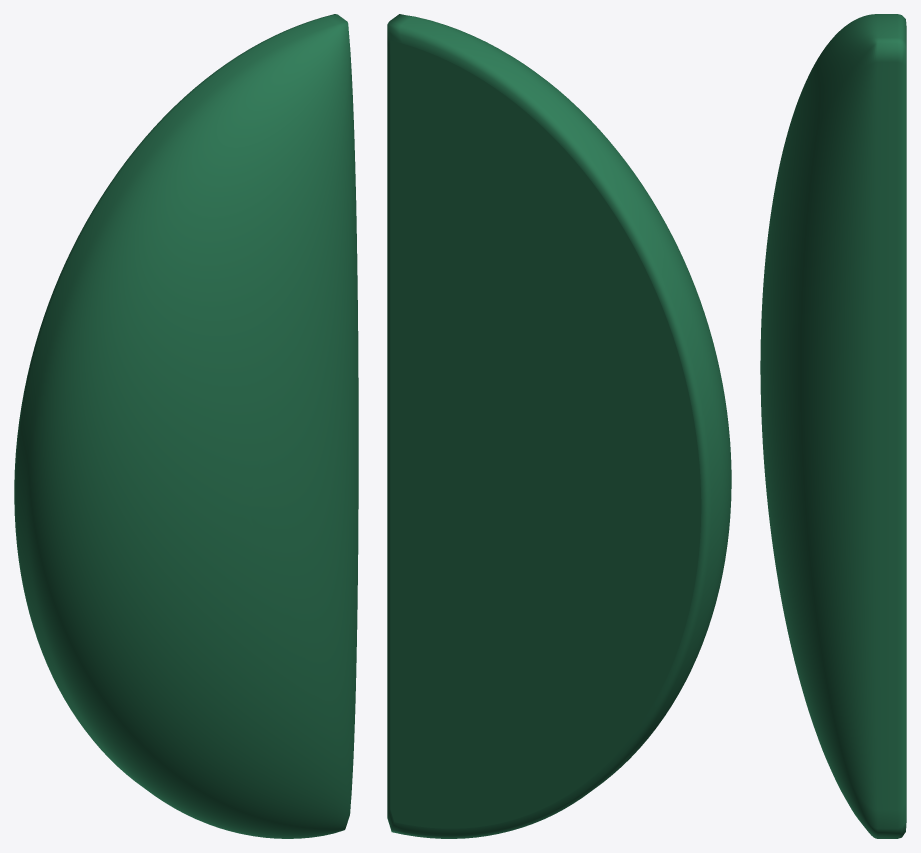
The model's file is split-oval.glb.
The picture shows the model from 3 angles, left to right: view 1: azimuth 30°, elevation 25°; view 2: azimuth 150°, elevation 25°; view 3: azimuth 270°, elevation 25°; orthographic projection.
Visible parts, largest first — view 1: Split-Oval Cabochon 24x10x4mm; view 2: Split-Oval Cabochon 24x10x4mm; view 3: Split-Oval Cabochon 24x10x4mm.
Part boxes in pixels (x1=…): Split-Oval Cabochon 24x10x4mm: x1=14, y1=14, x2=358, y2=838; Split-Oval Cabochon 24x10x4mm: x1=387, y1=14, x2=731, y2=838; Split-Oval Cabochon 24x10x4mm: x1=760, y1=14, x2=906, y2=838.
Bounding box in the file's own units: 0.01 × 0.024 × 0.00398.
